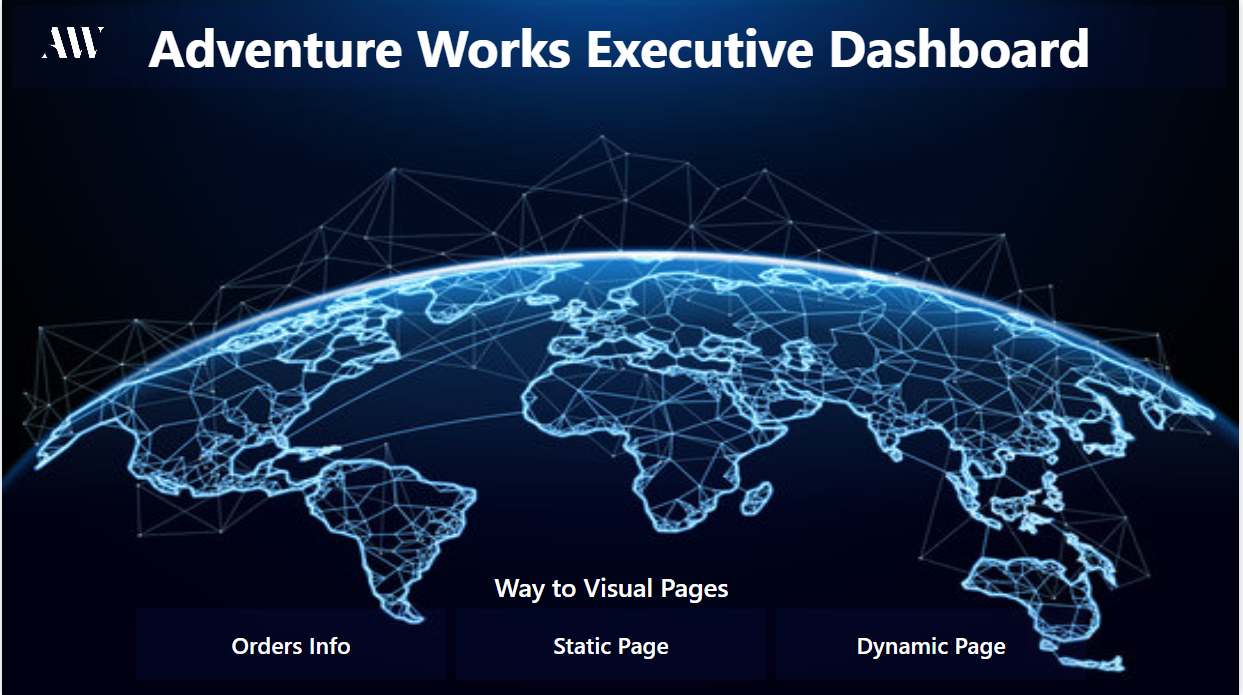

This screenshot's page, from the dashboard's own definition file:
{"tool":"powerbi","page":{"name":"Home Page","canvas":[1280,720],"ordinal":0},"visuals":[{"type":"textbox","box":[10,6.7,1256.7,85],"z":1000},{"type":"image","box":[8.3,6.7,130,85],"z":2000},{"type":"pageNavigator","title":"Way to Visual Pages","box":[138.3,588.3,983.3,115],"z":3000}]}

Visuals, with their boxes in screenshot pixels (x1, y1, x2, y2), scaled from the page's 1280x720 canvas onto the 1243x695 screenshot:
textbox: x1=10, y1=6, x2=1230, y2=89
image: x1=8, y1=6, x2=134, y2=89
"Way to Visual Pages" pageNavigator: x1=134, y1=568, x2=1089, y2=679
